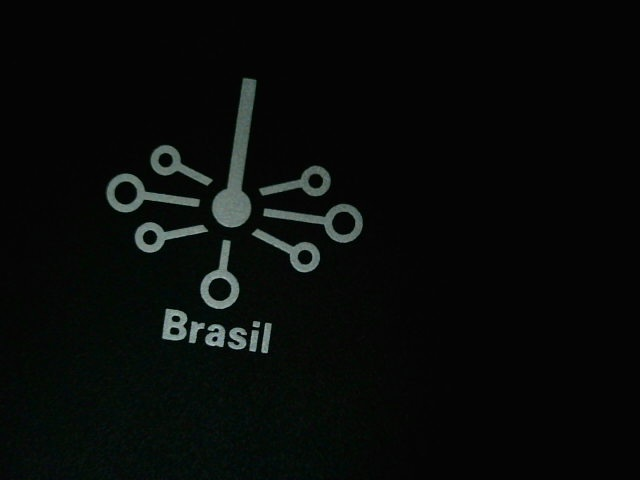BG_Brasil: (73, 55, 372, 364)
